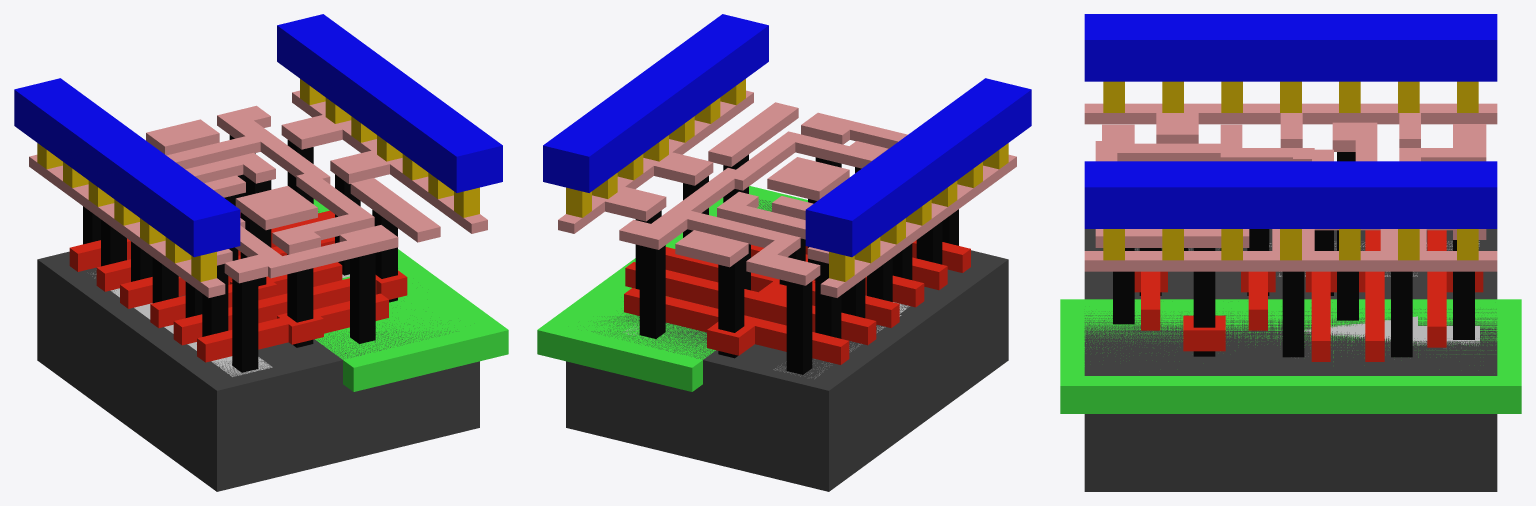
File: sky130_fd_sc_hd__or3b_2.obj
3 renders of one model, left to right at view 1: azimuth 30°, elevation 25°; view 2: azimuth 150°, elevation 25°; view 3: azimuth 270°, elevation 25°, orthographic. The views are drawn at different scales.
Visible parts, largest first — view 1: subs, metal1, li, licon, nwell, poly, mcon, diff; view 2: subs, metal1, li, poly, licon, nwell, mcon; view 3: metal1, subs, li, nwell, poly, licon, mcon, tap.
Boxes of the visible parts, left/top/right/bottom form: subs: left=37, top=211, right=479, bottom=491; metal1: left=14, top=14, right=502, bottom=257; li: left=29, top=90, right=487, bottom=297; licon: left=83, top=135, right=397, bottom=372; nwell: left=313, top=199, right=508, bottom=391; poly: left=69, top=210, right=407, bottom=362; mcon: left=37, top=79, right=479, bottom=281; diff: left=92, top=273, right=272, bottom=376; subs: left=566, top=199, right=1008, bottom=491; metal1: left=543, top=14, right=1031, bottom=257; li: left=558, top=90, right=1016, bottom=297; poly: left=624, top=240, right=970, bottom=364; licon: left=635, top=154, right=958, bottom=374; nwell: left=537, top=186, right=807, bottom=391; mcon: left=566, top=79, right=1008, bottom=281; metal1: left=1084, top=14, right=1497, bottom=228; subs: left=1084, top=229, right=1497, bottom=491; li: left=1084, top=103, right=1497, bottom=271; nwell: left=1060, top=299, right=1521, bottom=413; poly: left=1134, top=230, right=1483, bottom=361; licon: left=1113, top=152, right=1474, bottom=357; mcon: left=1103, top=81, right=1478, bottom=260; tap: left=1278, top=316, right=1479, bottom=345.
Bounding box in the file's own units: 3.2 × 2.74 × 3.6.
